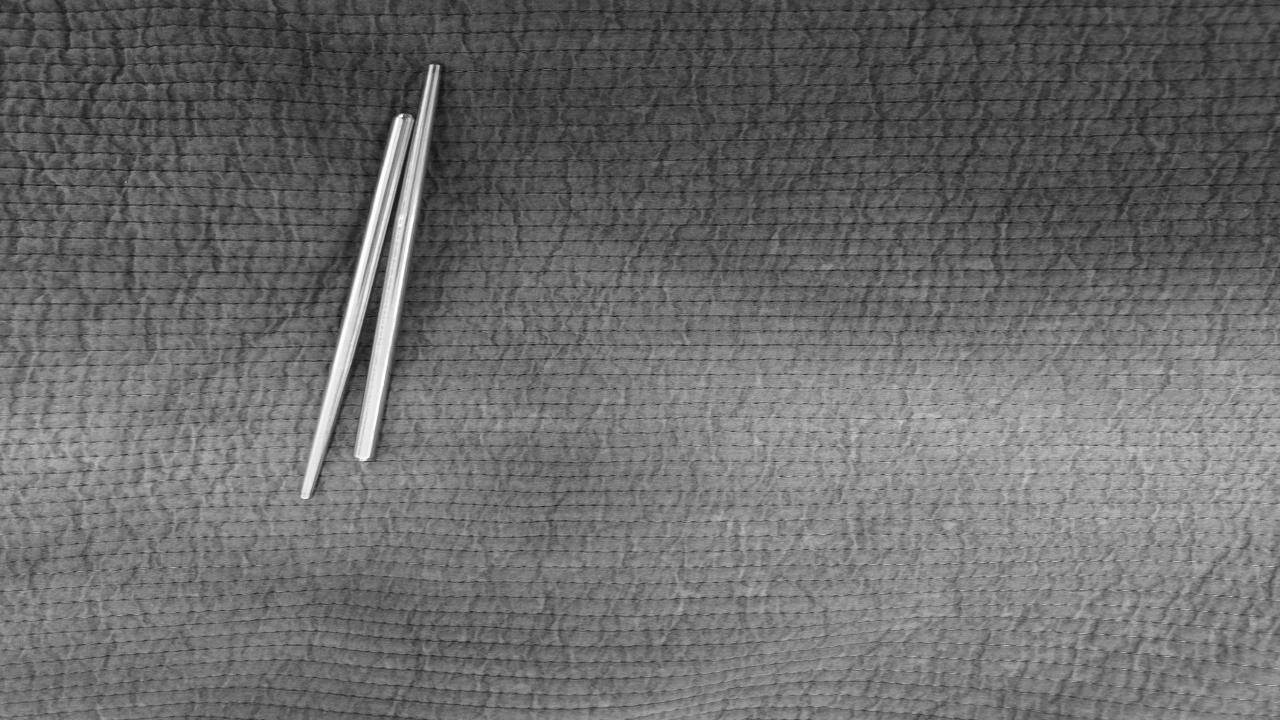chopstick: (301, 60, 444, 494)
